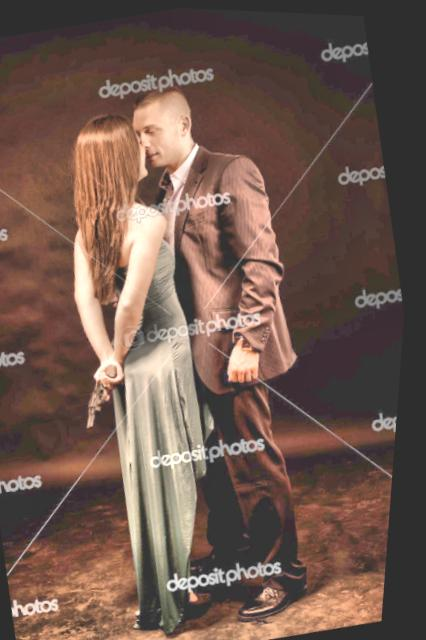pistol: (66, 349, 138, 432)
